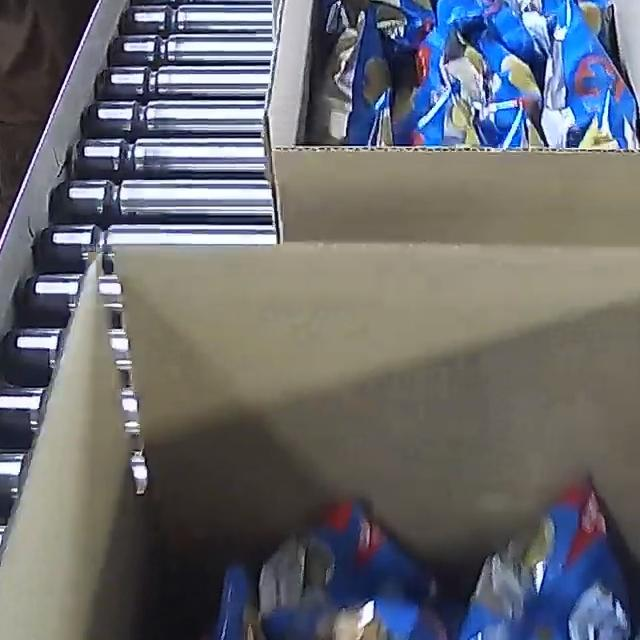paprika: (118, 477, 640, 640), (318, 0, 640, 151)
